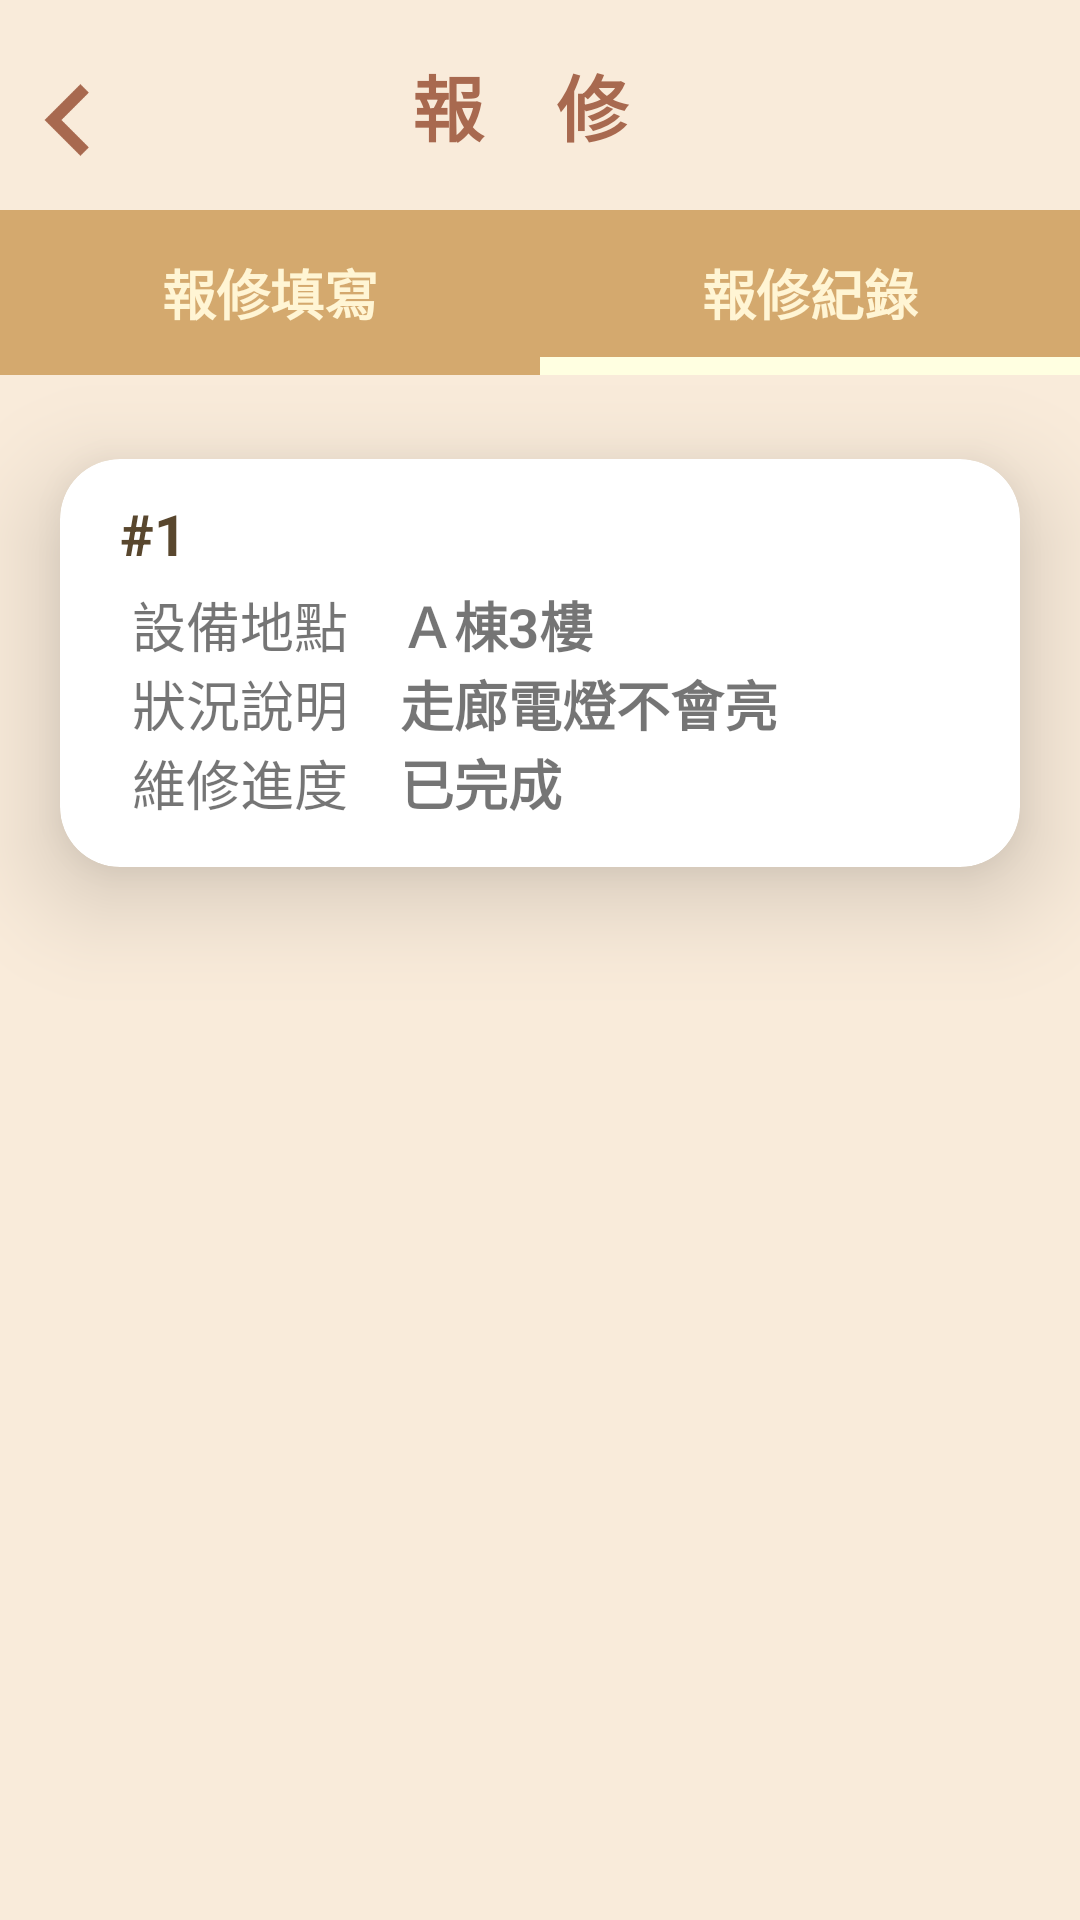

Icon bounding boxes for this 1080×1920 phone screenshot, format detection(x1, y1, x2, y2):
previous page: detection(45, 84, 89, 156)
